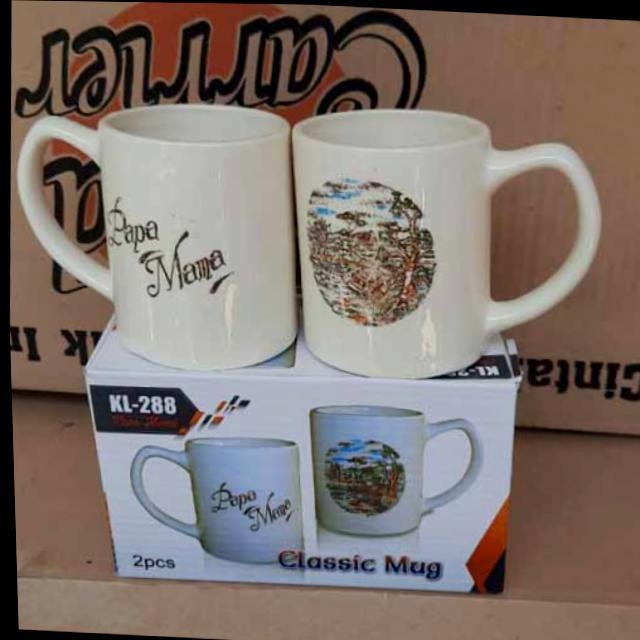cup: (282, 97, 612, 390)
